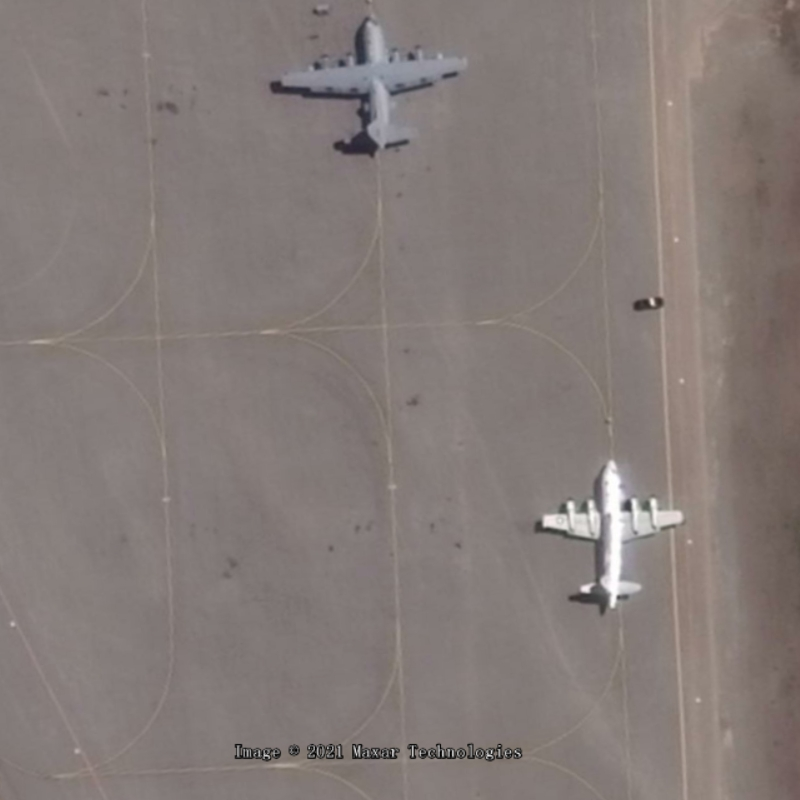A2: (261, 9, 476, 158)
A9: (529, 447, 689, 614)
